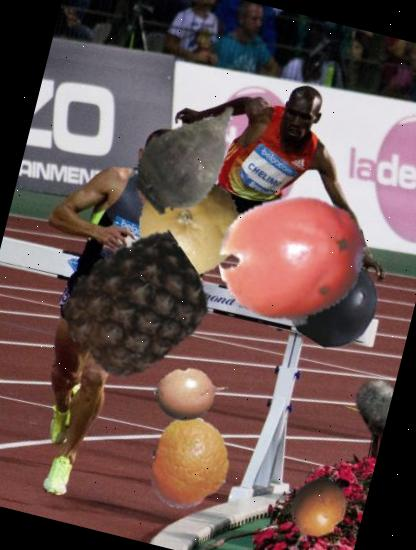Beetroot: (113, 77, 274, 238)
Granadilla: (147, 348, 237, 438), (267, 466, 362, 550)
Grape: (280, 248, 388, 356)
Grapefruit: (128, 163, 255, 290)
Kaki: (204, 173, 383, 352)
Mandarine: (134, 408, 248, 522)
Pineapple: (50, 222, 221, 392)
